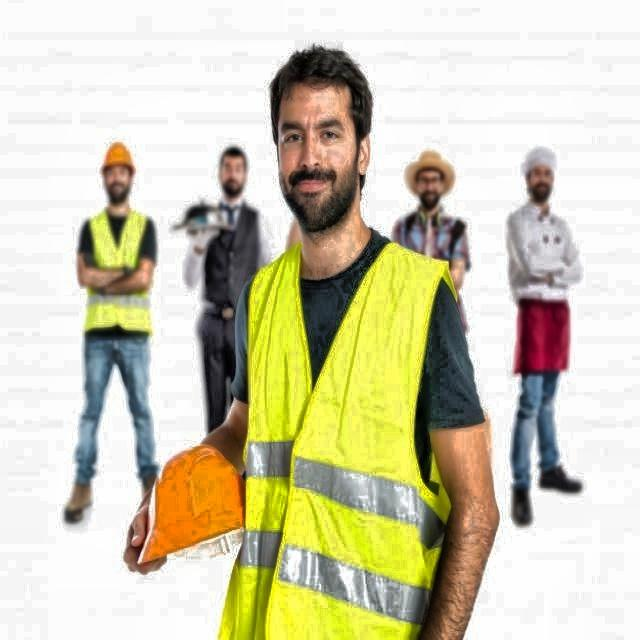person: (243, 27, 509, 640), (72, 135, 165, 525)
